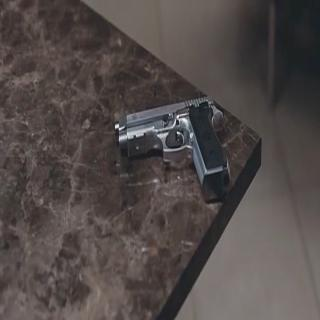gun: (110, 82, 240, 214)
